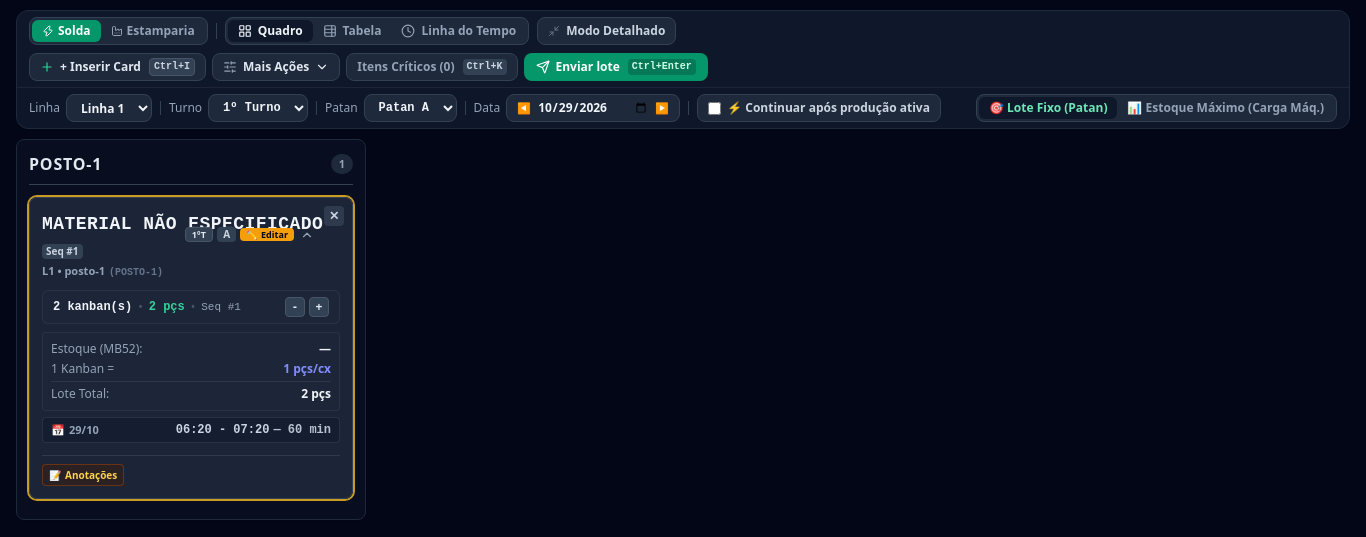
Test: ProgramacaoPatan › increases the displayed kanban count when the + button is clicked
The image size is (1366, 537).
Expected: the text "2 kanban(s)" is shown, [53,299,132,315]
Click the button named "Aumentar kanban" at (319, 307), box [309,297,329,317]
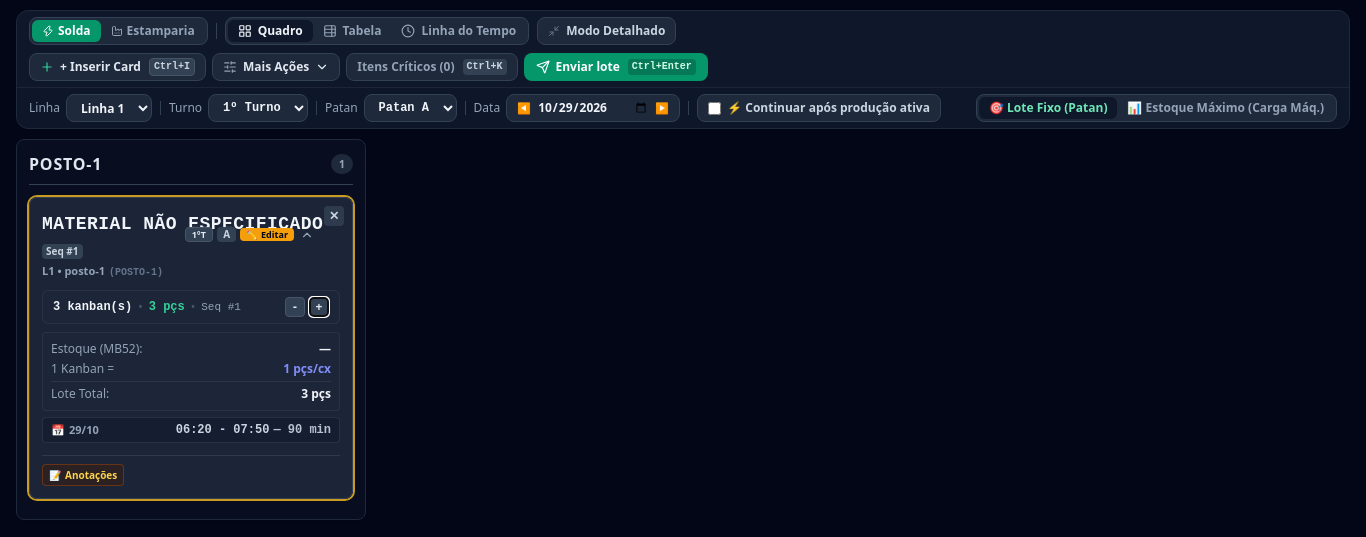
Expected: the text "3 kanban(s)" is shown, [53,299,132,315]
